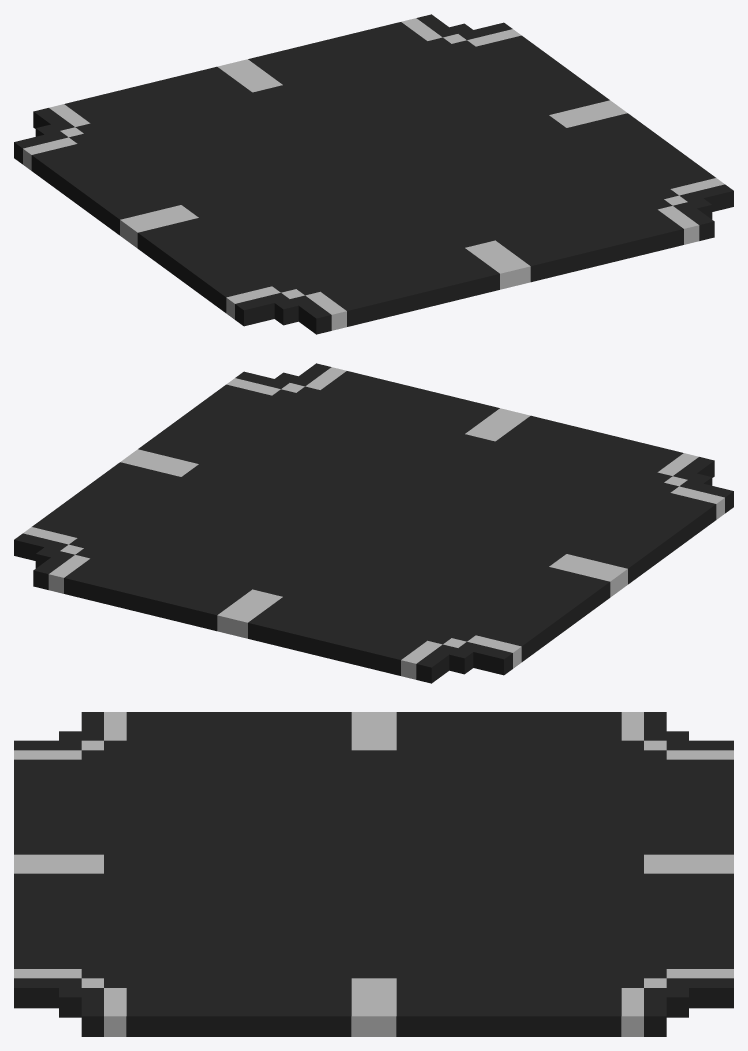
Rendered from road-rounded-4-way-crossing-1.gltf.
The picture shows the model from 3 angles, top to bottom: view 1: azimuth 30°, elevation 25°; view 2: azimuth 150°, elevation 25°; view 3: azimuth 270°, elevation 25°; orthographic projection. The views are drawn at different scales.
Parts seen in each view (by area): view 1: road-rounded-4-way-crossing-1; view 2: road-rounded-4-way-crossing-1; view 3: road-rounded-4-way-crossing-1.
Boxes of the visible parts, box(x1,y1,x2,y2) form: road-rounded-4-way-crossing-1: box(14, 14, 733, 334); road-rounded-4-way-crossing-1: box(14, 363, 733, 683); road-rounded-4-way-crossing-1: box(14, 712, 733, 1036).
Bounding box in the file's own units: 3.2 × 0.1 × 3.2.
1 material, 1 textured.
